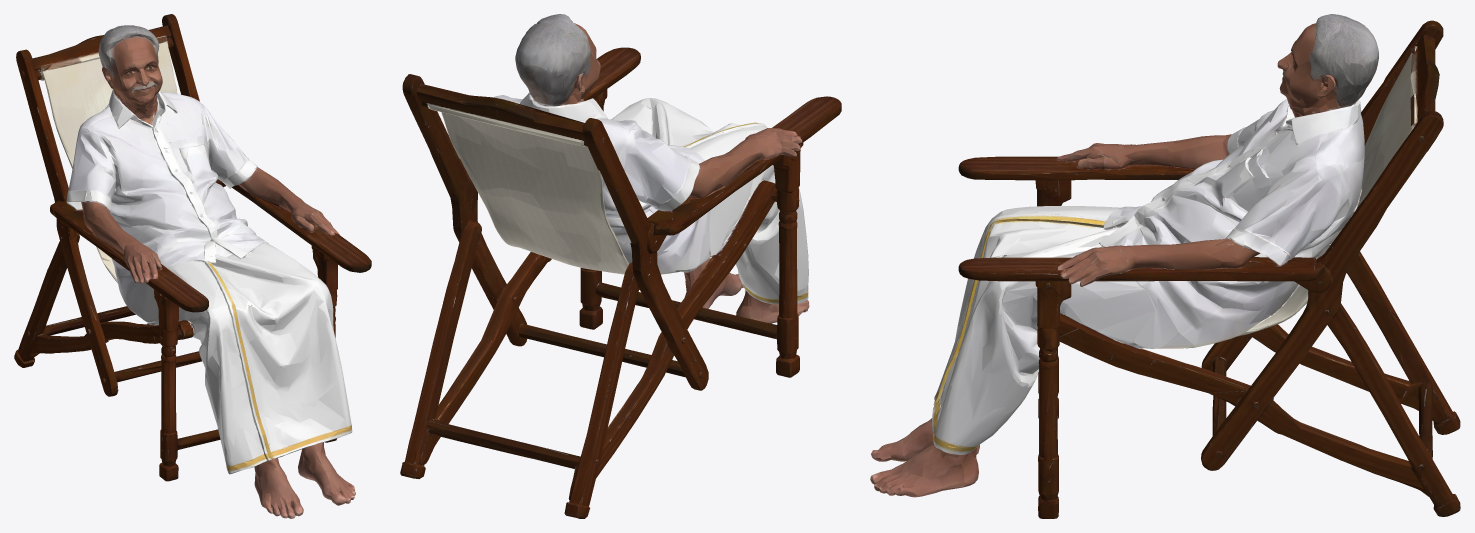
Rendered from man-s.glb.
The picture shows the model from 3 angles, left to right: view 1: azimuth 30°, elevation 25°; view 2: azimuth 150°, elevation 25°; view 3: azimuth 270°, elevation 25°; orthographic projection. The views are drawn at different scales.
Size of the model in its own units: 0.9416 by 1.6 by 1.9.
Materials: 1 (1 with a texture image).
